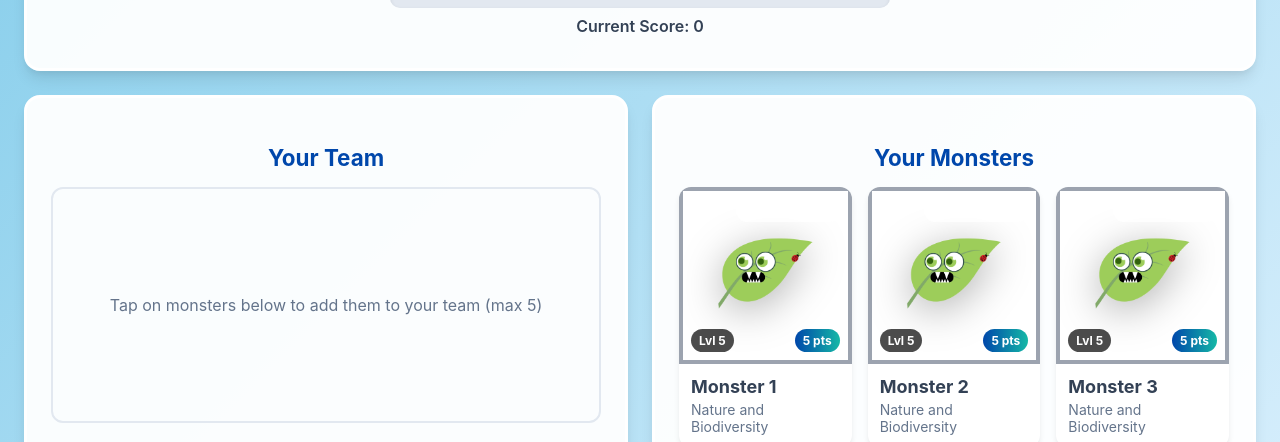
Scenario: MonsterChallengePage Component › shows error when trying to add more than 5 monsters
Click the heading "Monster 1".
click(734, 386)  # box [691,376,777,397]
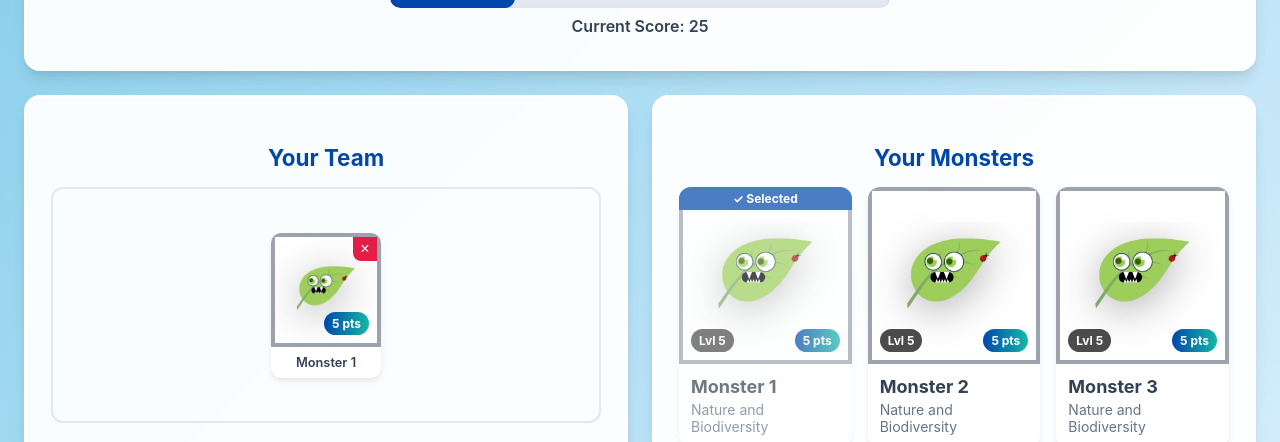
Click the heading "Monster 2".
click(924, 387)  # box [880,376,969,397]
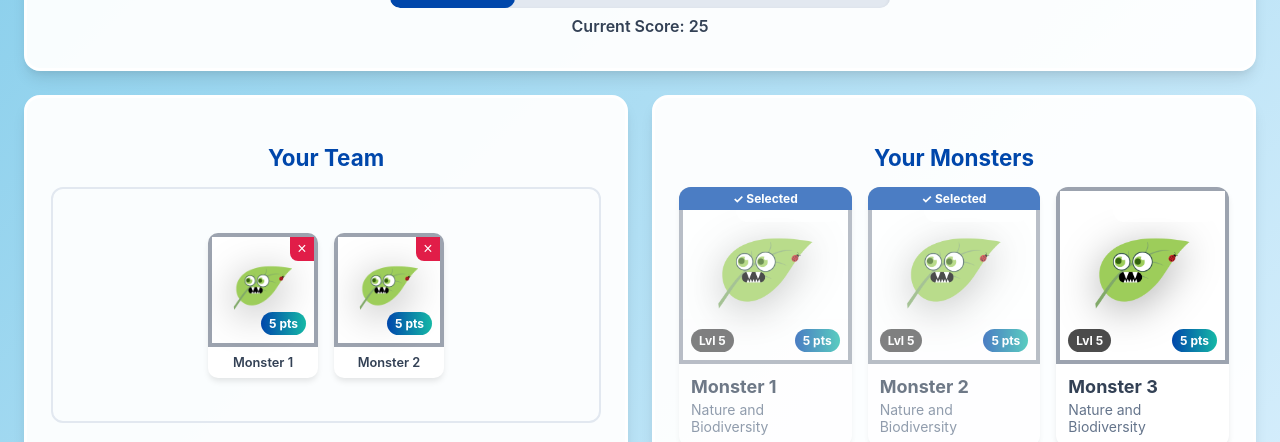
Click the heading "Monster 3".
click(1113, 387)  # box [1068,376,1158,397]
(page scrolled)
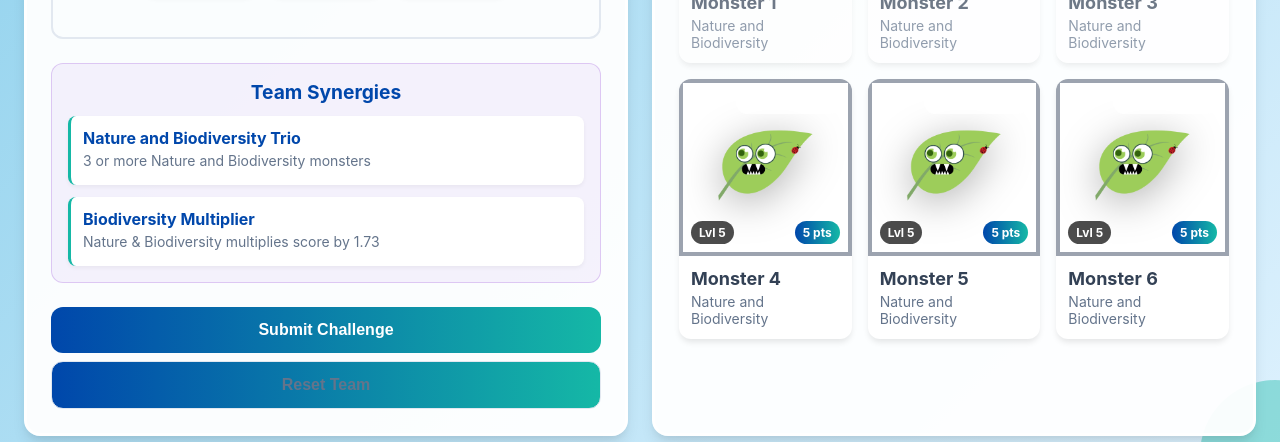
Click the heading "Monster 4".
click(736, 278)  # box [691,268,781,289]
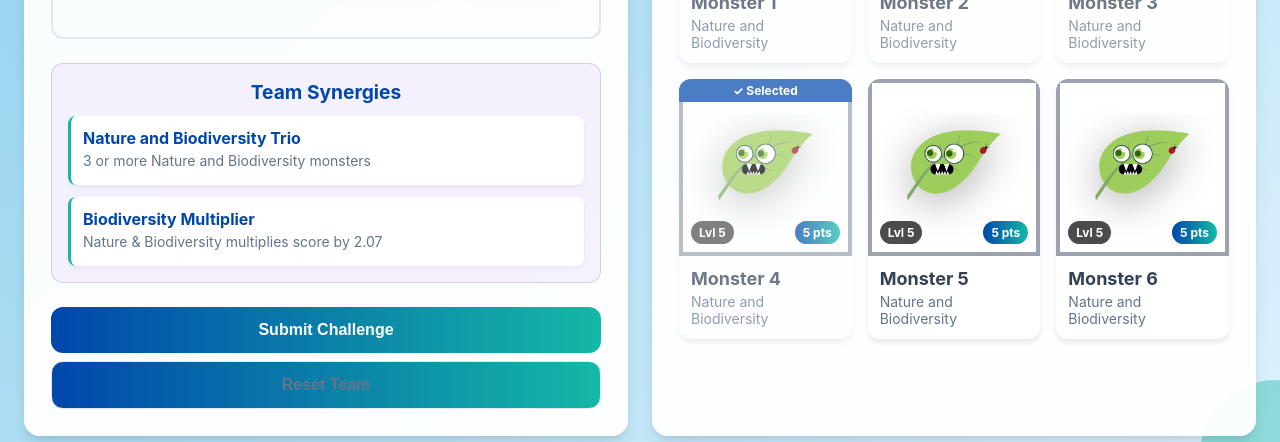
Click the heading "Monster 5".
click(924, 278)  # box [880,268,969,289]
(page scrolled)
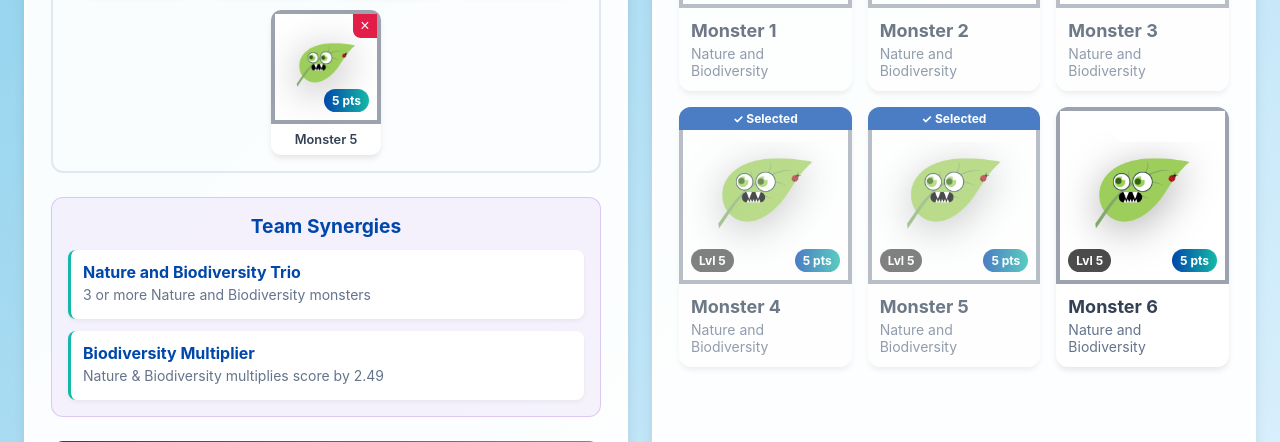
Click the heading "Monster 6".
click(1113, 306)  # box [1068,296,1158,317]
(page scrolled)
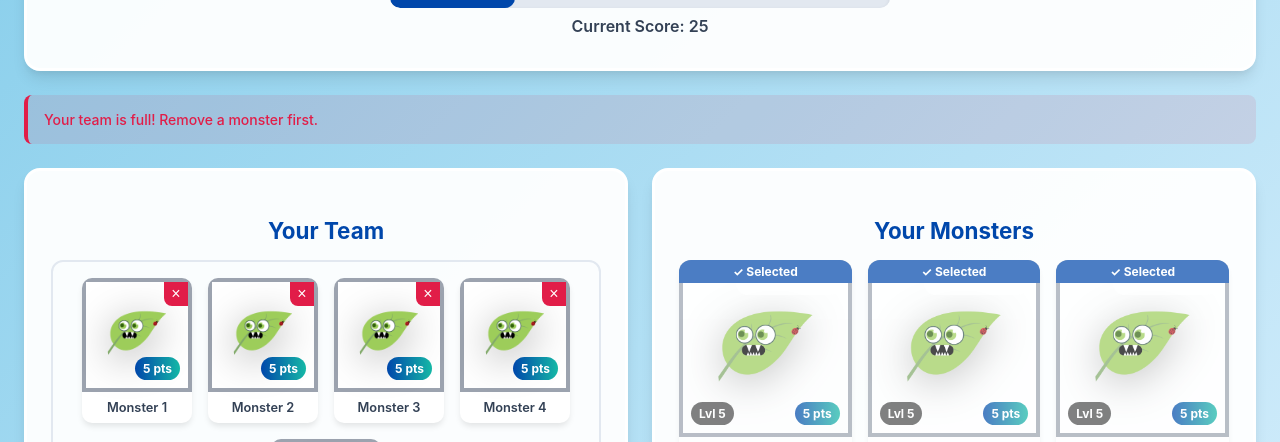
expect the text "Your team is full! Remove a monster first." is shown: met, box [24,95,1256,144]
